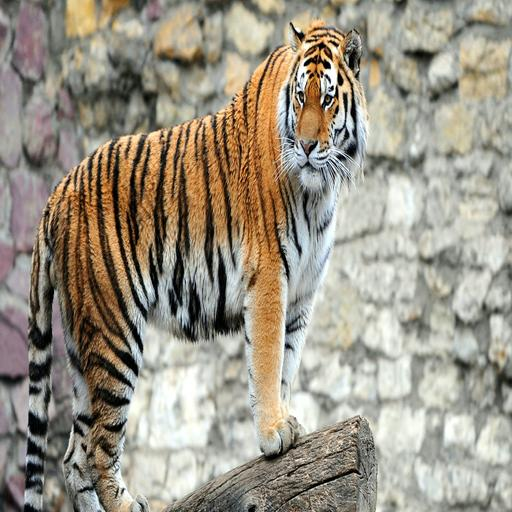Tiger: (0, 12, 380, 512)
